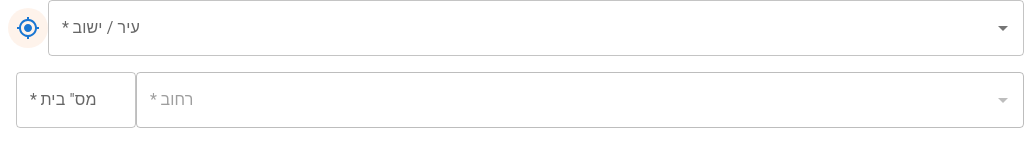
AddressFields — current location › rejects a position that resolves outside Israel
Click the button named "מיקום" at (28, 28), box x1=8 y1=8 x2=48 y2=48
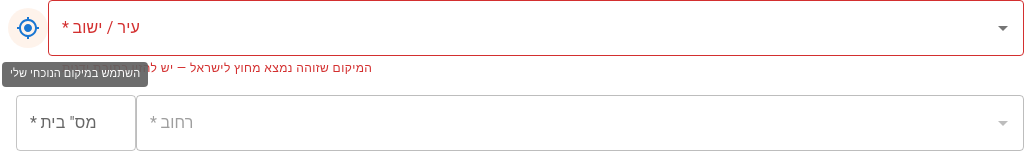
Now the text "המיקום שזוהה נמצא מחוץ לישראל — יש להזין כתובת ידנית" is shown, box x1=62 y1=61 x2=372 y2=75
